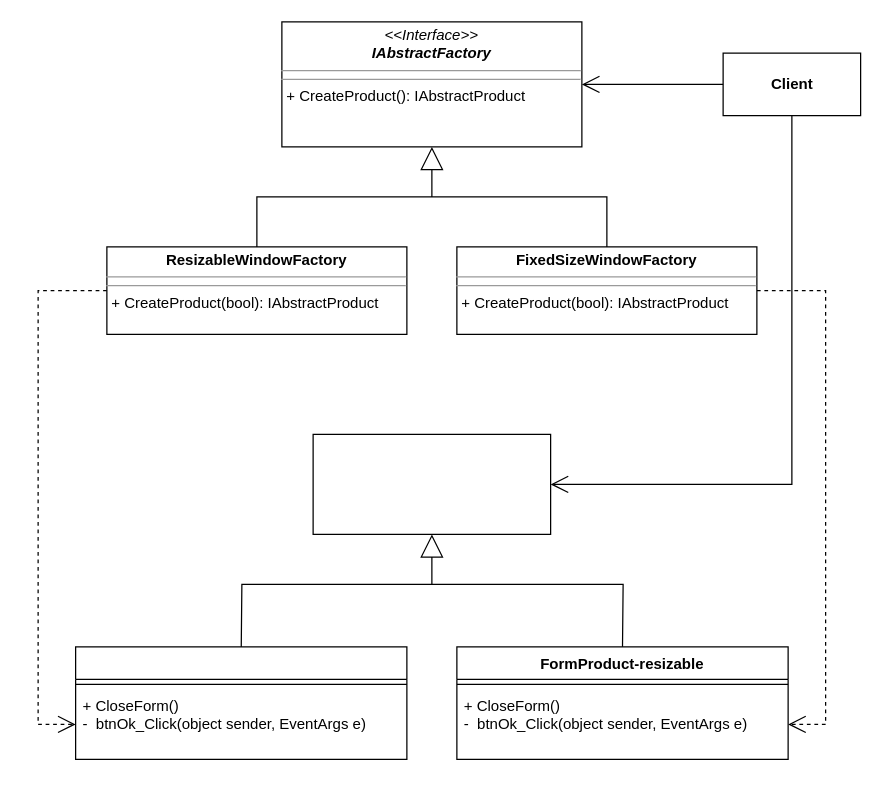
Image size: 883x785. Some labels were removed from this diagram. The box of each missing label's shape, as (x1, y1, x2, y2) in pixels:
<<Interface>> IAbstractProduct + CloseForm(): (312, 433, 551, 534)
FormProduct-fixed: (74, 646, 407, 759)
